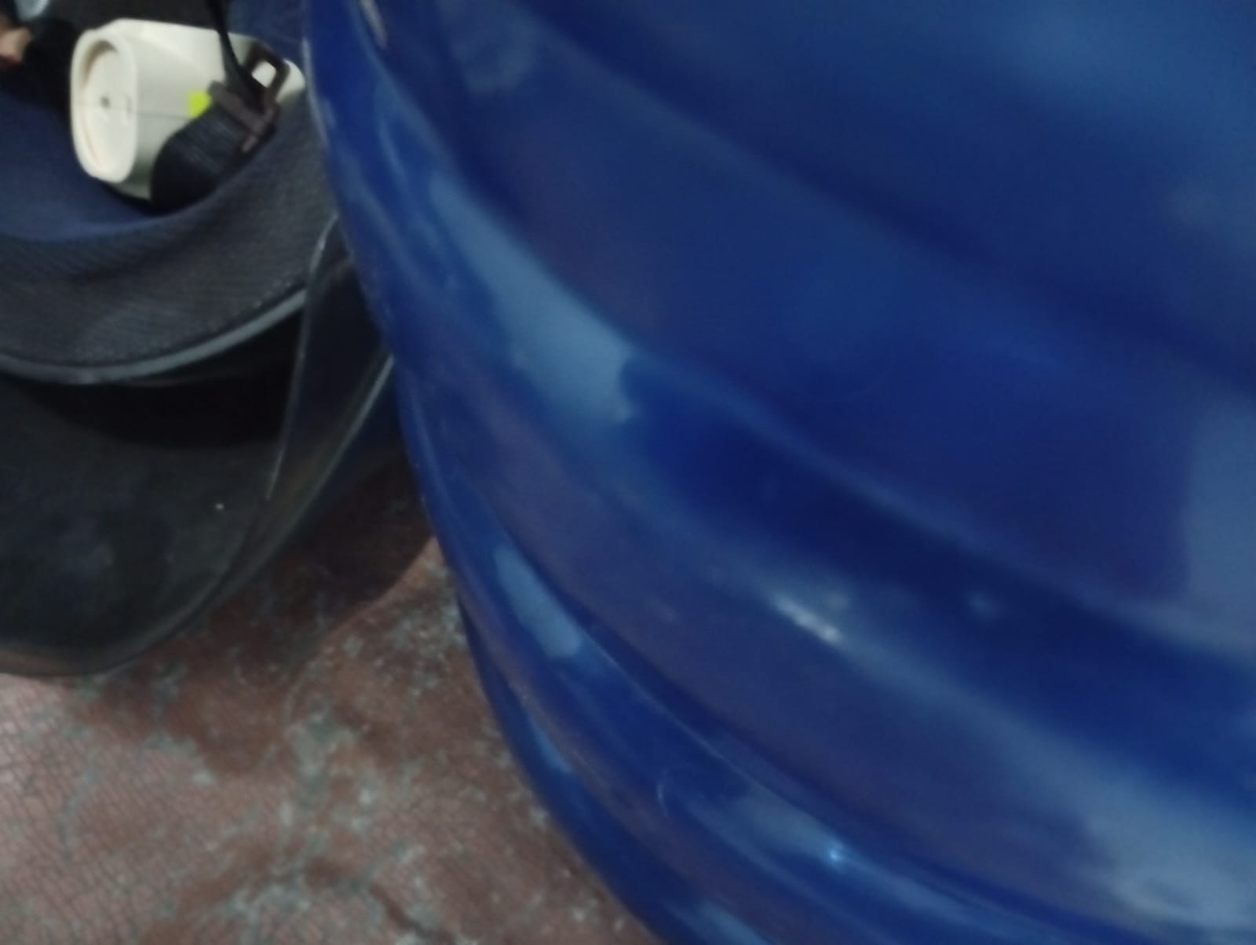Colokan: (42, 6, 321, 214)
